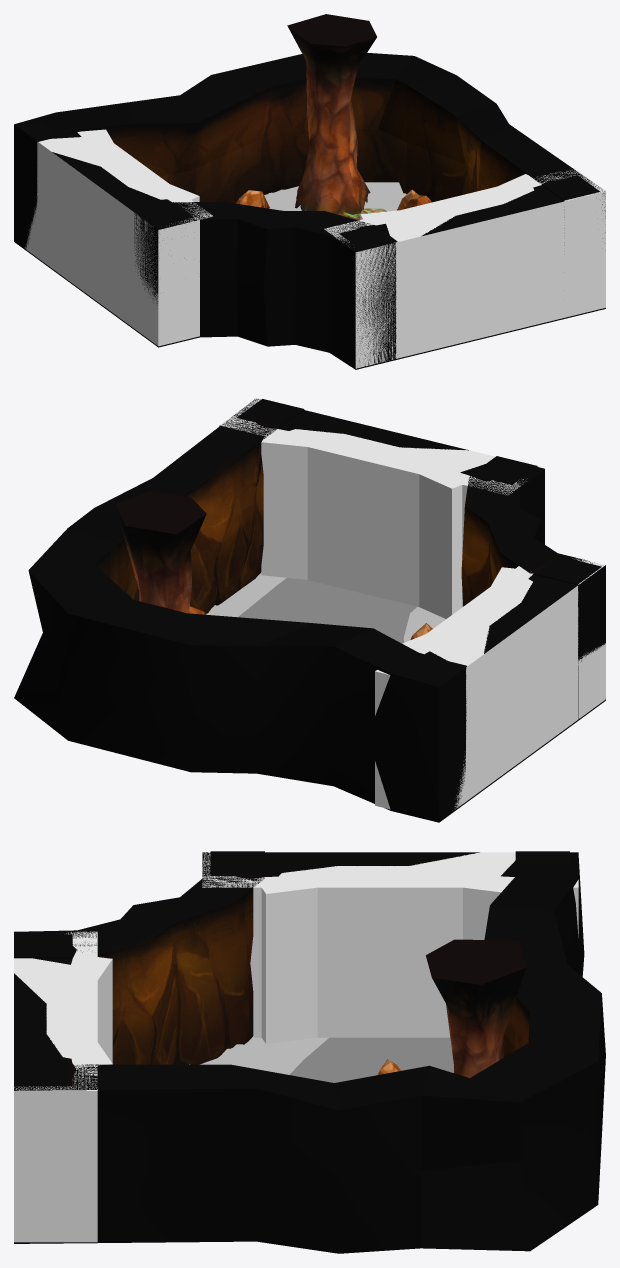
File: Dungeon_062_RoadL_003.fbx
The picture shows the model from 3 angles, top to bottom: view 1: azimuth 30°, elevation 25°; view 2: azimuth 150°, elevation 25°; view 3: azimuth 270°, elevation 25°; orthographic projection. The views are drawn at different scales.
Visible parts, largest first — view 1: Dun_062_Road_003_wall, DoorWay_NavMask (3) (×2), DoorWay_NavMask (1) (×2), Dun_062_Object010, Dun_062_Door_002 (×2), Dun_062_Road_003_shadow, DoorWay_NavMask (2), Dun_062_Object_100; view 2: Dun_062_Road_003_wall, DoorWay_NavMask (3) (×2), DoorWay_NavMask (1), Dun_062_Door_002 (×2), DoorWay_NavMask (4) (×2), DoorWay_NavMask (2) (×2), Dun_062_Object010, Dun_062_RoadL_003_Nav, Dun_062_Road_003_shadow; view 3: Dun_062_Road_003_wall, DoorWay_NavMask (3) (×2), DoorWay_NavMask (4) (×2), Dun_062_Door_002 (×2), Dun_062_Object010, DoorWay_NavMask (1) (×2), Dun_062_RoadL_003_Nav, DoorWay_NavMask (2) (×2), Dun_062_Road_003_shadow.
Boxes of the visible parts, <box> form: Dun_062_Road_003_wall: <box>14,52,605,369</box>; DoorWay_NavMask (3) (×2): <box>24,130,605,368</box>; DoorWay_NavMask (1) (×2): <box>37,141,564,358</box>; Dun_062_Object010: <box>287,14,376,214</box>; Dun_062_Door_002 (×2): <box>18,120,599,359</box>; Dun_062_Road_003_shadow: <box>264,182,406,211</box>; DoorWay_NavMask (2): <box>360,208,429,225</box>; Dun_062_Object_100: <box>236,189,431,210</box>; Dun_062_Road_003_wall: <box>14,399,605,822</box>; DoorWay_NavMask (3) (×2): <box>219,398,605,810</box>; DoorWay_NavMask (1): <box>424,572,574,801</box>; Dun_062_Door_002 (×2): <box>237,399,601,801</box>; DoorWay_NavMask (4) (×2): <box>261,428,531,599</box>; DoorWay_NavMask (2) (×2): <box>402,455,475,654</box>; Dun_062_Object010: <box>115,491,206,613</box>; Dun_062_RoadL_003_Nav: <box>238,578,417,643</box>; Dun_062_Road_003_shadow: <box>205,572,445,642</box>; Dun_062_Road_003_wall: <box>14,852,605,1253</box>; DoorWay_NavMask (3) (×2): <box>14,852,578,1242</box>; DoorWay_NavMask (4) (×2): <box>49,867,345,1068</box>; Dun_062_Door_002 (×2): <box>14,851,569,1086</box>; Dun_062_Object010: <box>426,939,525,1077</box>; DoorWay_NavMask (1) (×2): <box>14,852,515,1064</box>; Dun_062_RoadL_003_Nav: <box>289,1037,453,1082</box>; DoorWay_NavMask (2) (×2): <box>74,867,514,1062</box>; Dun_062_Road_003_shadow: <box>189,1037,328,1074</box>.
Bounding box in the file's own units: 7.21 × 2.96 × 7.08.
